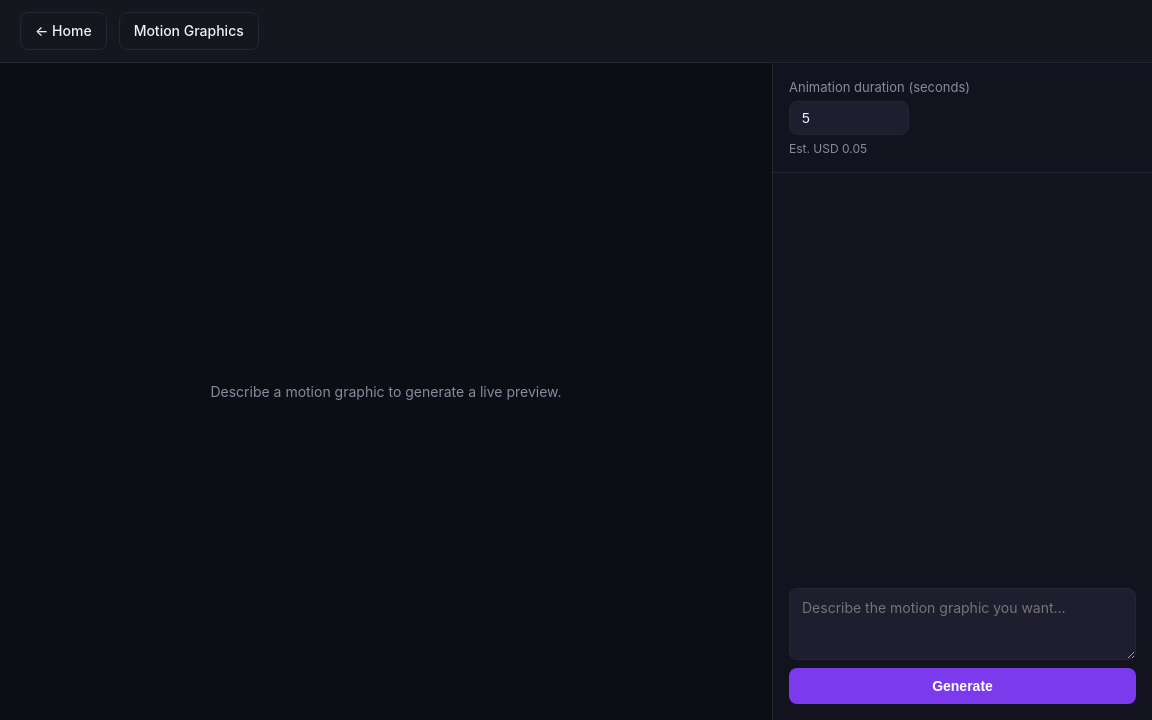
MotionGraphicAuthoringView (generate) › records a failed verdict in chat and shows no broken preview when code fails determinism
In the text box labelled "Describe the motion graphic you want…": (962, 624) 789,588 -> 1136,660, type "A lower-third that slides in the guest name over four seconds."
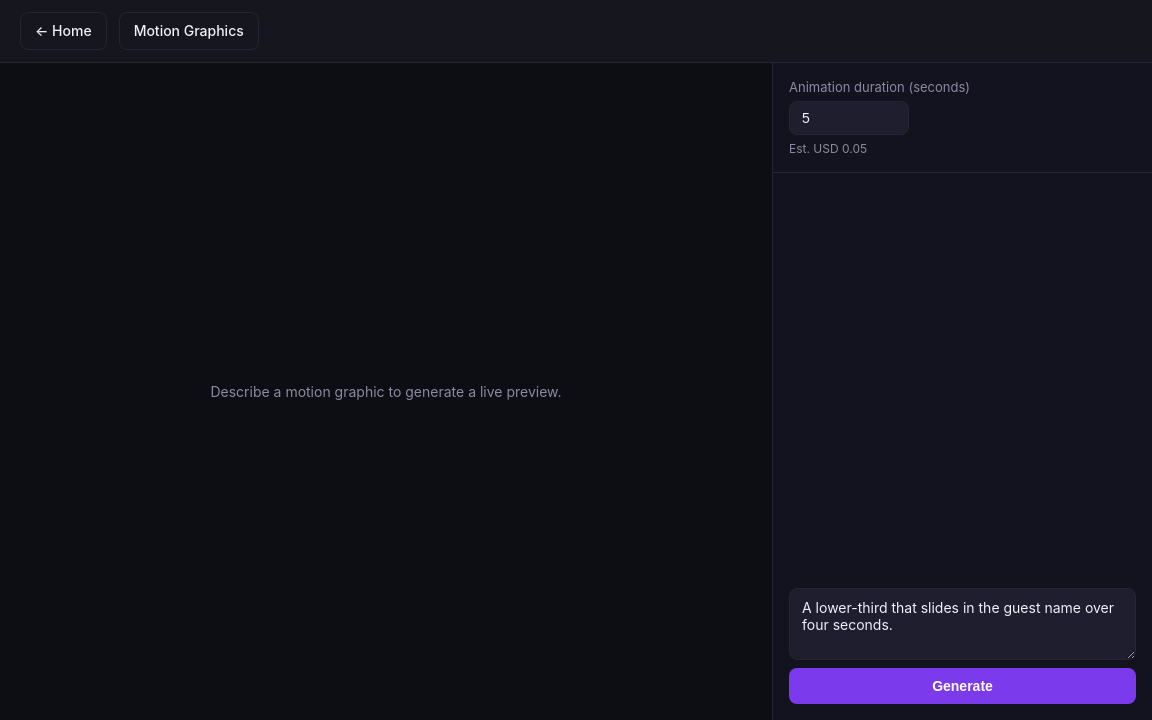
Click the button "Generate": (962, 686) 789,668 -> 1136,704
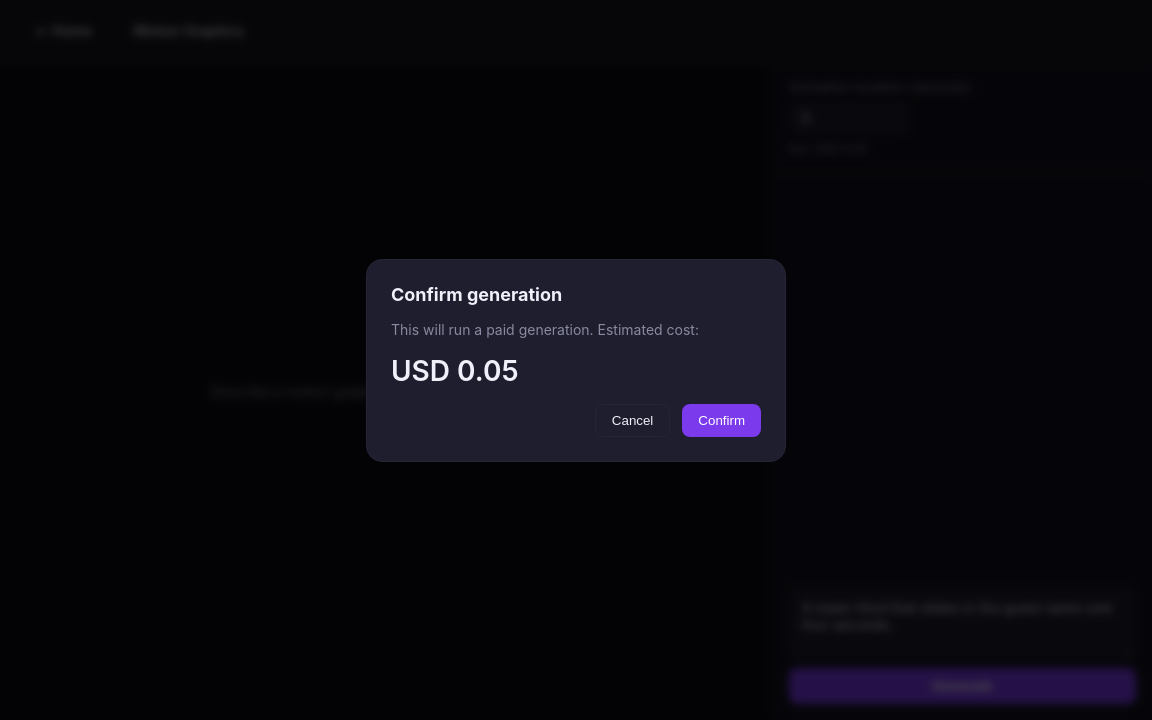
Click the button "Confirm": (722, 420) 682,404 -> 761,436
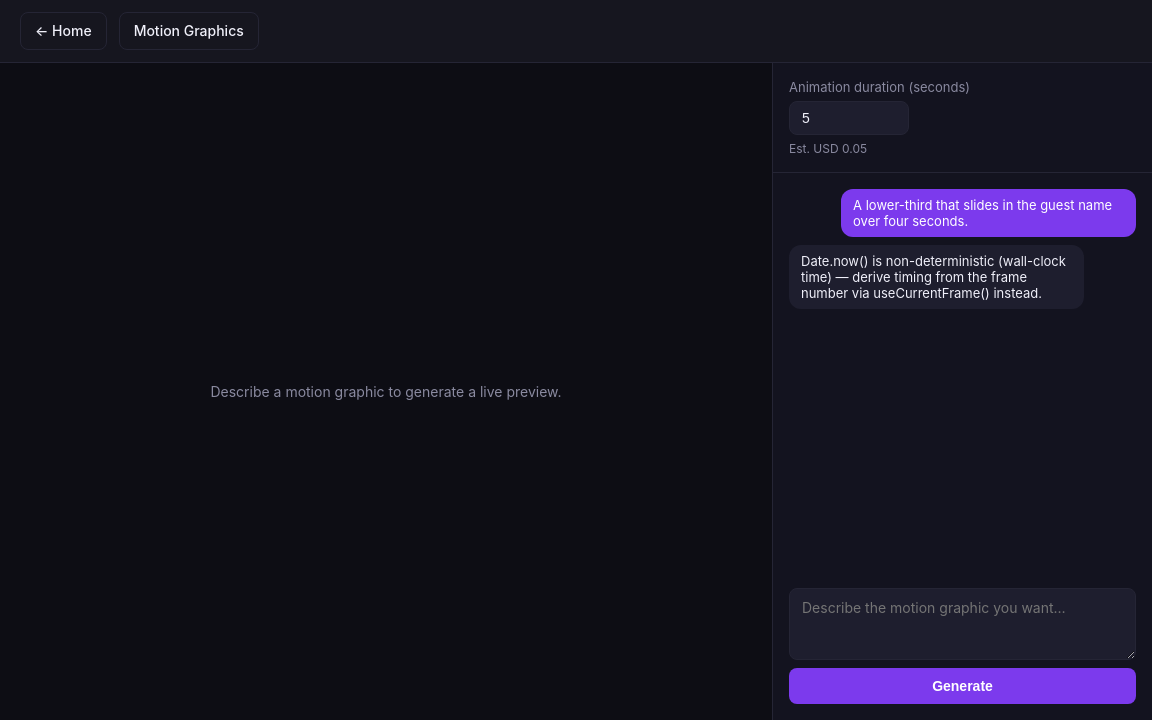
Now the list item with test id "mg-chat-error" is shown, box 789,245 -> 1084,309
